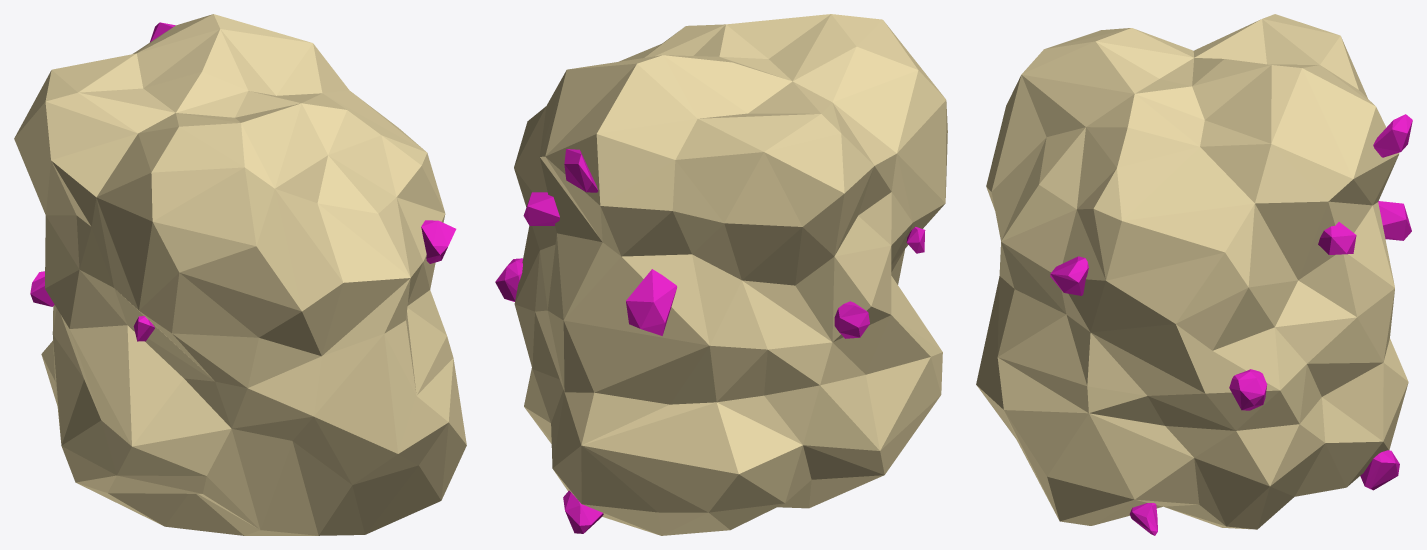
Rendered from CrystalOre (11).fbx.
3 views of the same model, side by side, from view 1: azimuth 30°, elevation 25°; view 2: azimuth 150°, elevation 25°; view 3: azimuth 270°, elevation 25° (orthographic). The views are drawn at different scales.
Visible parts, largest first — view 1: Asteroid231; view 2: Asteroid231; view 3: Asteroid231.
Part boxes in pixels (left/top/right/bottom): Asteroid231: left=14, top=14, right=466, bottom=535; Asteroid231: left=495, top=14, right=947, bottom=535; Asteroid231: left=976, top=14, right=1412, bottom=535.
Bounding box in the file's own units: 261 × 309 × 282.
